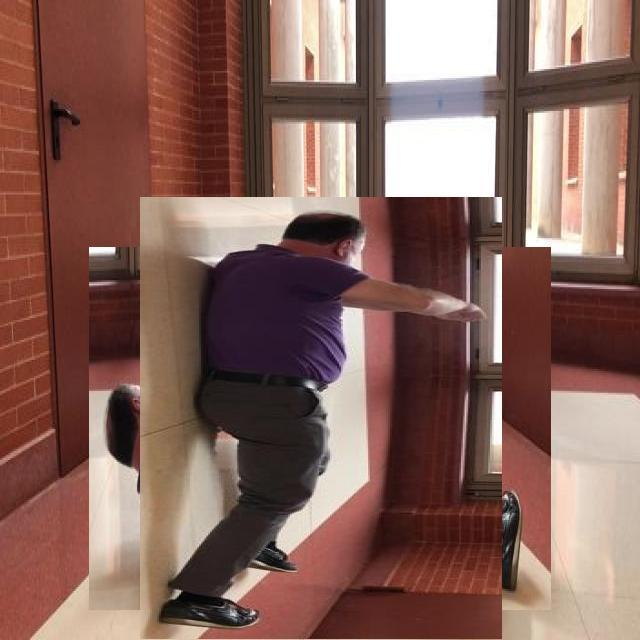Fall: (141, 183, 515, 620)
